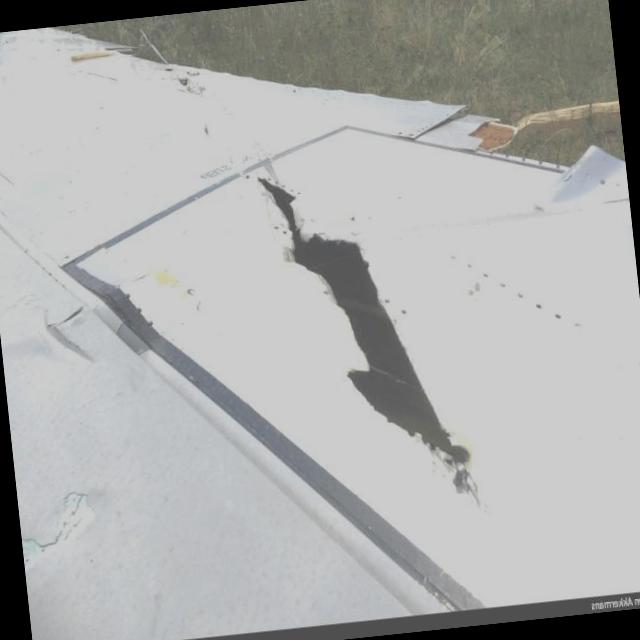crack: (256, 155, 478, 514)
